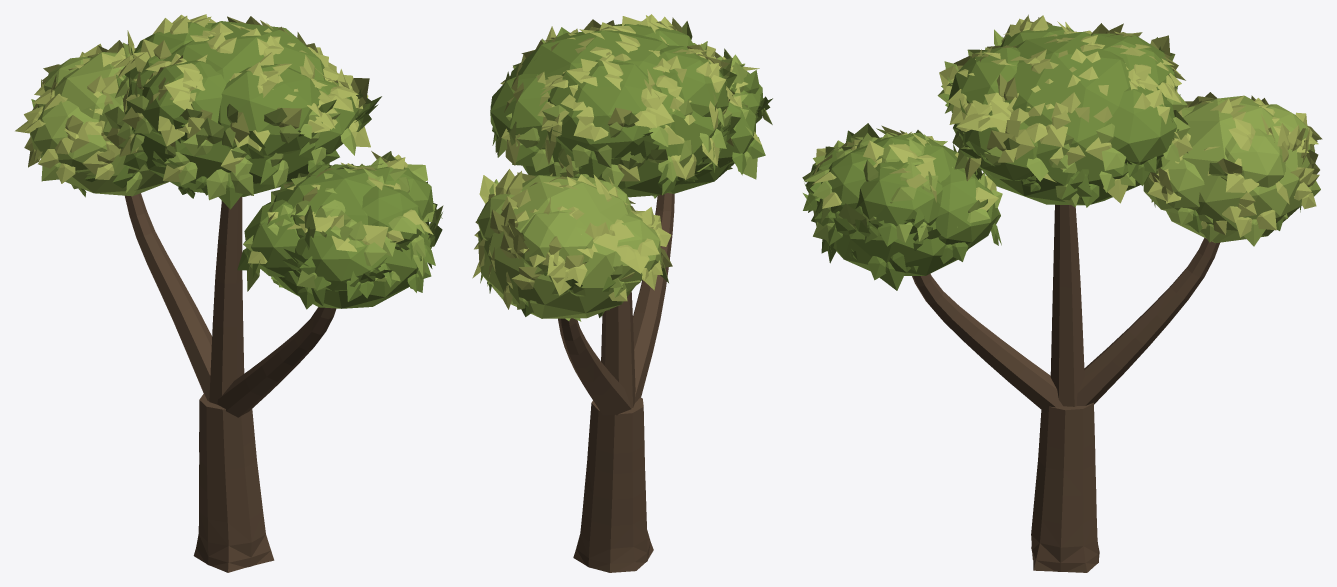
3 views of the same model, side by side, from view 1: azimuth 30°, elevation 25°; view 2: azimuth 150°, elevation 25°; view 3: azimuth 270°, elevation 25° (orthographic).
Parts seen in each view (by area): view 1: crown, trunk; view 2: crown, trunk; view 3: crown, trunk.
Boxes of the visible parts, box(x1,y1,x2,y2) form: crown: box(15, 14, 443, 309); trunk: box(125, 193, 336, 572); crown: box(472, 14, 772, 321); trunk: box(558, 193, 674, 572); crown: box(802, 14, 1322, 290); trunk: box(912, 204, 1219, 572).
Size of the model in its own units: 2.4 by 4.83 by 4.39.
